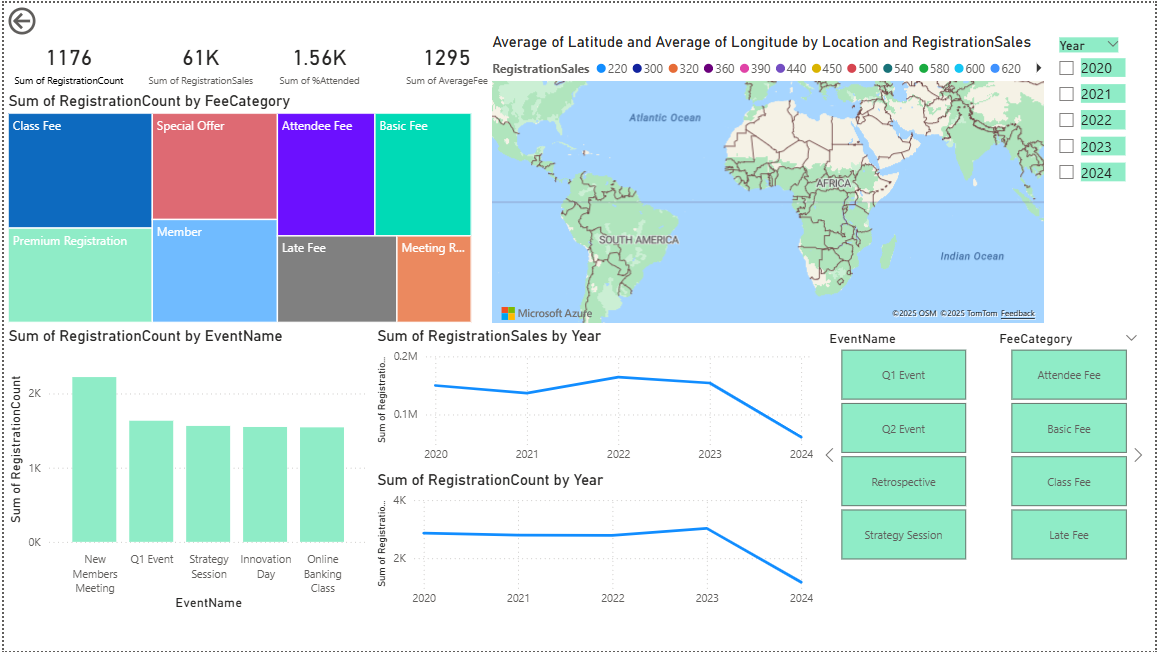

This screenshot's page, from the dashboard's own definition file:
{"tool":"powerbi","page":{"name":"Page 1","canvas":[1280,720],"ordinal":0},"visuals":[{"type":"card","fields":{"Values":["Sum(Sheet1.RegistrationCount)"]},"box":[0,32.9,144.3,65.7],"z":1000},{"type":"card","fields":{"Values":["Sum(Sheet1.RegistrationSales)"]},"box":[142.9,27.1,151.4,77.1],"z":1001},{"type":"card","fields":{"Values":["Sum(Sheet1.AverageFee)"]},"box":[421.4,32.9,142.9,65.7],"z":1002},{"type":"card","fields":{"Values":["Sum(Sheet1.%Attended)"]},"box":[278.6,32.9,142.9,65.7],"z":1003},{"type":"clusteredColumnChart","fields":{"Category":["Sheet1.EventName"],"Y":["Sum(Sheet1.RegistrationCount)"]},"box":[0,360,410,320],"z":1004},{"type":"treemap","fields":{"Group":["Sheet1.FeeCategory"],"Values":["Sum(Sheet1.RegistrationCount)"]},"box":[0,98.6,524.3,261.4],"z":1005},{"type":"lineChart","fields":{"Y":["Sum(Sheet1.RegistrationSales)"],"Category":["Sheet1.Year"]},"box":[410,360,494.3,160],"z":1006},{"type":"lineChart","fields":{"Category":["Sheet1.Year"],"Y":["Sum(Sheet1.RegistrationCount)"]},"box":[410,520,494.3,160],"z":1007},{"type":"filledMap","fields":{"Y":["Avg(Sheet1.Latitude)"],"X":["Avg(Sheet1.Longitude)"],"Category":["Sheet1.Location"],"Series":["Sheet1.RegistrationSales"]},"box":[537.1,32.9,622.9,327.1],"z":1008},{"type":"slicer","fields":{"Values":["Sheet1.Year"]},"box":[1160,32.9,91.4,174.3],"z":1009},{"type":"actionButton","box":[0,0,100,40],"z":1010},{"type":"slicer","fields":{"Values":["Sheet1.EventName"]},"box":[904.3,360,188.6,265.7],"z":1011},{"type":"slicer","fields":{"Values":["Sheet1.FeeCategory"]},"box":[1092.9,360,178.6,265.7],"z":1012}]}

Visuals, with their boxes in screenshot pixels (x1, y1, x2, y2), scaled from the page's 1280x720 canvas onto the 1157x652 screenshot:
card - Sum(Sheet1.RegistrationCount): BBox(0, 30, 130, 89)
card - Sum(Sheet1.RegistrationSales): BBox(129, 25, 266, 94)
card - Sum(Sheet1.AverageFee): BBox(381, 30, 510, 89)
card - Sum(Sheet1.%Attended): BBox(252, 30, 381, 89)
clusteredColumnChart - Sheet1.EventName x Sum(Sheet1.RegistrationCount): BBox(0, 326, 371, 616)
treemap - Sheet1.FeeCategory x Sum(Sheet1.RegistrationCount): BBox(0, 89, 474, 326)
lineChart - Sum(Sheet1.RegistrationSales) x Sheet1.Year: BBox(371, 326, 817, 471)
lineChart - Sheet1.Year x Sum(Sheet1.RegistrationCount): BBox(371, 471, 817, 616)
filledMap - Avg(Sheet1.Latitude) x Avg(Sheet1.Longitude): BBox(485, 30, 1049, 326)
slicer - Sheet1.Year: BBox(1049, 30, 1131, 188)
actionButton: BBox(0, 0, 90, 36)
slicer - Sheet1.EventName: BBox(817, 326, 988, 567)
slicer - Sheet1.FeeCategory: BBox(988, 326, 1149, 567)
